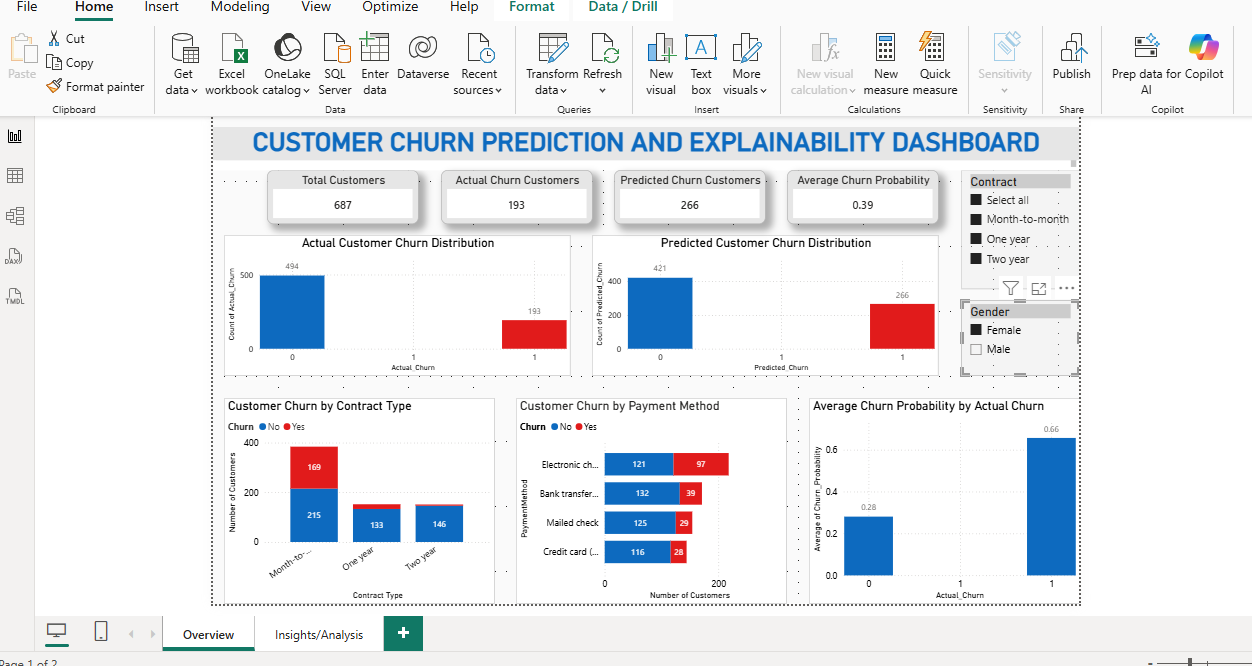

This screenshot's page, from the dashboard's own definition file:
{"tool":"powerbi","page":{"name":"Overview","canvas":[1280,720],"ordinal":0},"visuals":[{"type":"cardVisual","title":"Total Customers","fields":{"Data":["CountNonNull(churn_dashboard.tenure)"]},"box":[80,80,224,80],"z":0},{"type":"clusteredColumnChart","title":"Actual Customer Churn Distribution","fields":{"Category":["churn_dashboard.Actual_Churn"],"Y":["CountNonNull(churn_dashboard.Actual_Churn)"]},"box":[16,176,512,208],"z":1000},{"type":"clusteredColumnChart","title":"Predicted Customer Churn Distribution","fields":{"Category":["churn_dashboard.Predicted_Churn"],"Y":["CountNonNull(churn_dashboard.Predicted_Churn)"]},"box":[560,176,512,208],"z":2000},{"type":"columnChart","title":"Customer Churn by Contract Type","fields":{"Category":["churn_dashboard.Contract"],"Y":["CountNonNull(churn_dashboard.Contract)"],"Series":["churn_dashboard.Churn_Label"]},"box":[16,416,400,304],"z":3000},{"type":"clusteredColumnChart","title":"Average Churn Probability by Actual Churn","fields":{"Category":["churn_dashboard.Actual_Churn"],"Y":["Avg(churn_dashboard.Churn_Probability)"]},"box":[880,416,400,304],"z":4000},{"type":"slicer","fields":{"Values":["churn_dashboard.Contract"]},"box":[1104,80,176,176],"z":5000},{"type":"slicer","fields":{"Values":["churn_dashboard.gender"]},"box":[1104,272,176,112],"z":6000},{"type":"textbox","title":"CUSTOMER CHURN PREDICTION AND EXPLAINABILITY DASHBOARD","box":[0,16,1280,64],"z":7000},{"type":"cardVisual","title":"Actual Churn Customers","fields":{"Data":["Sum(churn_dashboard.Actual_Churn)"]},"box":[336,80,224,80],"z":8000},{"type":"cardVisual","title":"Predicted Churn Customers","fields":{"Data":["Sum(churn_dashboard.Predicted_Churn)"]},"box":[592,80,224,80],"z":9000},{"type":"cardVisual","title":"Average Churn Probability","fields":{"Data":["Avg(churn_dashboard.Churn_Probability)"]},"box":[848,80,224,80],"z":10000},{"type":"barChart","title":"Customer Churn by Payment Method","fields":{"Category":["churn_dashboard.PaymentMethod"],"Y":["CountNonNull(churn_dashboard.PaymentMethod)"],"Series":["churn_dashboard.Churn_Label"]},"box":[448,416,400,304],"z":11000}]}

Visuals, with their boxes on the page's 1280x720 design canvas (x1, y1, x2, y2). These are canvas units, not pixel positions in the 1252x666 screenshot, which may show the page scaled, cropped or inside an application window:
"Total Customers" cardVisual: 80, 80, 304, 160
"Actual Customer Churn Distribution" clusteredColumnChart: 16, 176, 528, 384
"Predicted Customer Churn Distribution" clusteredColumnChart: 560, 176, 1072, 384
"Customer Churn by Contract Type" columnChart: 16, 416, 416, 720
"Average Churn Probability by Actual Churn" clusteredColumnChart: 880, 416, 1280, 720
slicer - churn_dashboard.Contract: 1104, 80, 1280, 256
slicer - churn_dashboard.gender: 1104, 272, 1280, 384
"CUSTOMER CHURN PREDICTION AND EXPLAINABILITY DASHBOARD" textbox: 0, 16, 1280, 80
"Actual Churn Customers" cardVisual: 336, 80, 560, 160
"Predicted Churn Customers" cardVisual: 592, 80, 816, 160
"Average Churn Probability" cardVisual: 848, 80, 1072, 160
"Customer Churn by Payment Method" barChart: 448, 416, 848, 720
